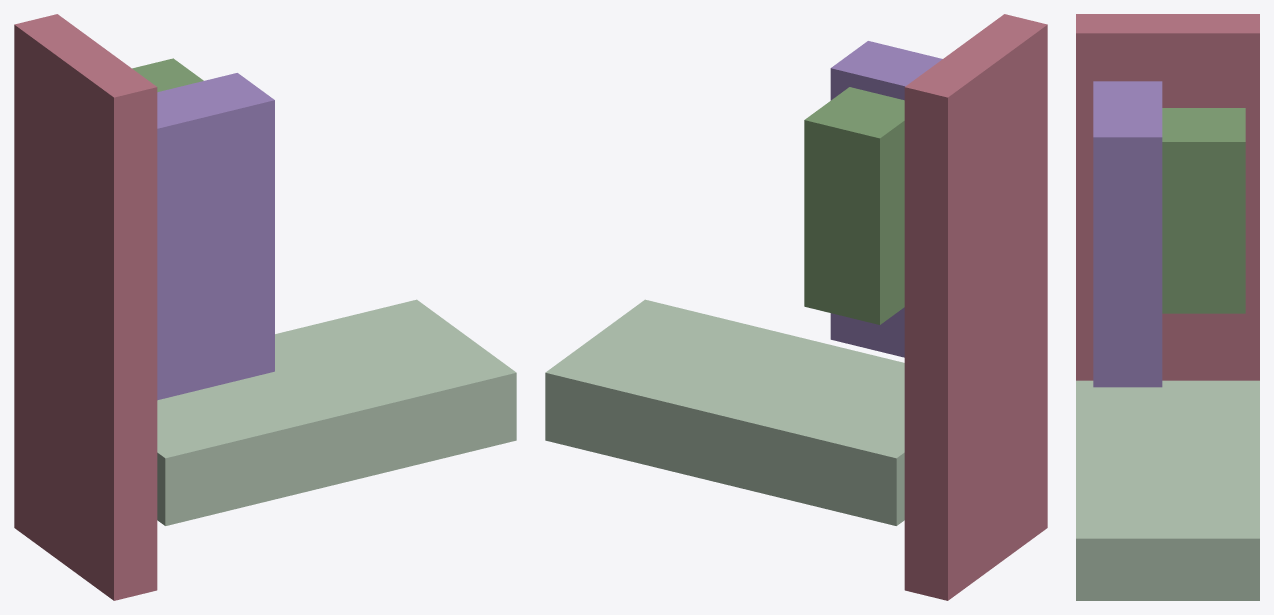
3 renders of one model, left to right at view 1: azimuth 30°, elevation 25°; view 2: azimuth 150°, elevation 25°; view 3: azimuth 270°, elevation 25°, orthographic. The views are drawn at different scales.
Visible parts, largest first — view 1: world; view 2: world; view 3: world.
Boxes of the visible parts, x1=… form: world: x1=14, y1=14, x2=516, y2=600; world: x1=545, y1=14, x2=1047, y2=600; world: x1=1076, y1=14, x2=1259, y2=600.
Size of the model in its own units: 7.45 by 8.9 by 3.2.
